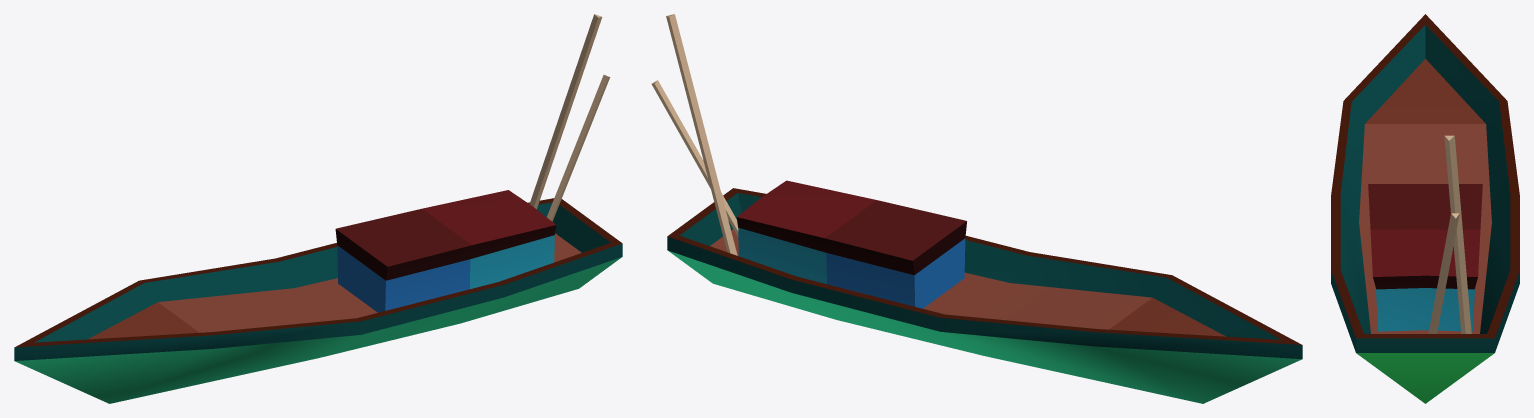
The model's file is SM_Boat_02.fbx.
3 renders of one model, left to right at view 1: azimuth 30°, elevation 25°; view 2: azimuth 150°, elevation 25°; view 3: azimuth 270°, elevation 25°, orthographic. The views are drawn at different scales.
Visible parts, largest first — view 1: SM_Boat_02_LOD0; view 2: SM_Boat_02_LOD0; view 3: SM_Boat_02_LOD0.
Boxes of the visible parts, box(x1,y1,x2,y2) form: SM_Boat_02_LOD0: box(14, 14, 622, 403); SM_Boat_02_LOD0: box(651, 14, 1302, 403); SM_Boat_02_LOD0: box(1331, 14, 1519, 403).
Size of what is drawn, in the model's own units: 4.61 by 1.91 by 1.12.
